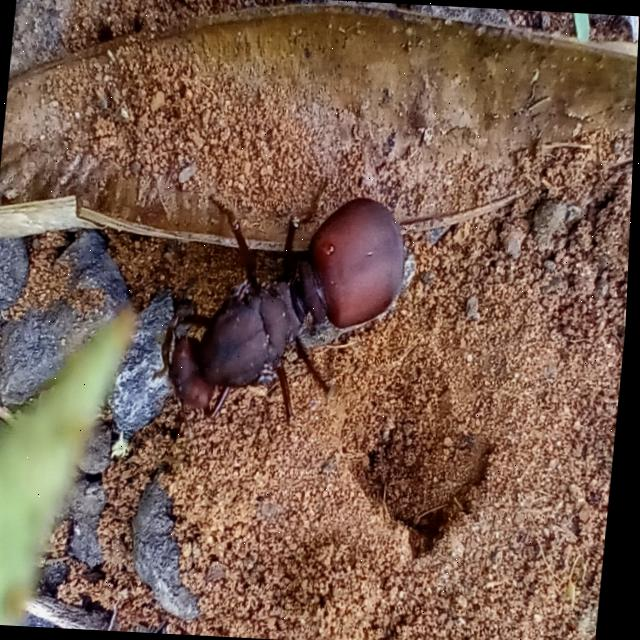Alive-Female-Dealate: (147, 187, 413, 432)
